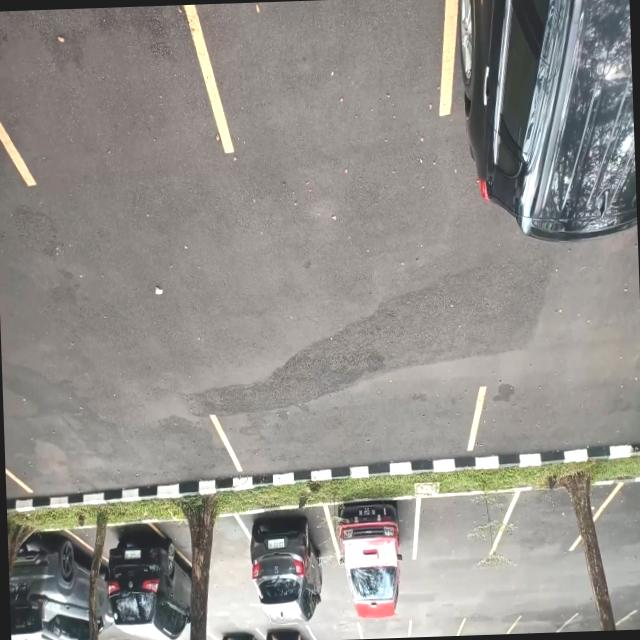car: (105, 520, 188, 632), (11, 529, 94, 640), (246, 506, 335, 604), (329, 502, 418, 596), (261, 626, 319, 640), (207, 628, 266, 640)
free: (0, 4, 219, 177), (193, 0, 451, 144), (227, 386, 490, 480), (4, 411, 235, 501), (467, 373, 640, 469), (499, 487, 594, 562), (412, 494, 507, 566), (596, 474, 640, 542), (559, 607, 638, 632), (500, 616, 570, 634), (452, 616, 511, 636), (406, 618, 462, 636), (360, 620, 413, 638), (312, 623, 365, 640), (613, 602, 640, 629)
